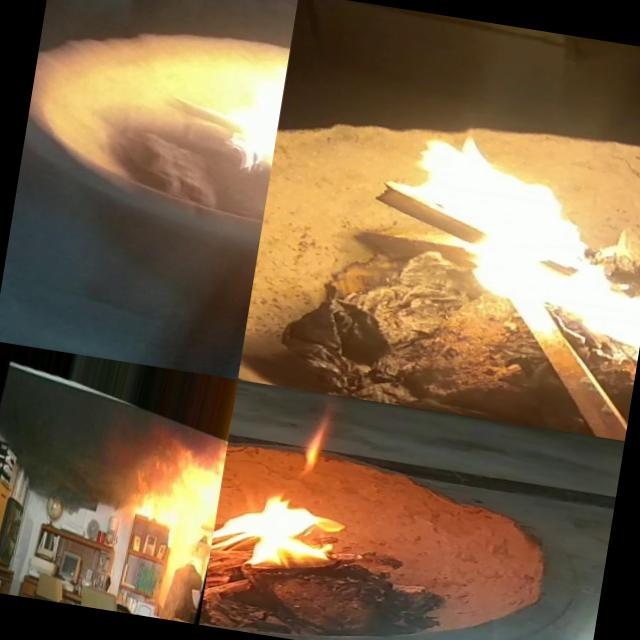fire: (388, 118, 640, 376), (203, 481, 342, 622), (127, 429, 227, 562), (206, 48, 289, 186)
smoke: (152, 553, 198, 623)
